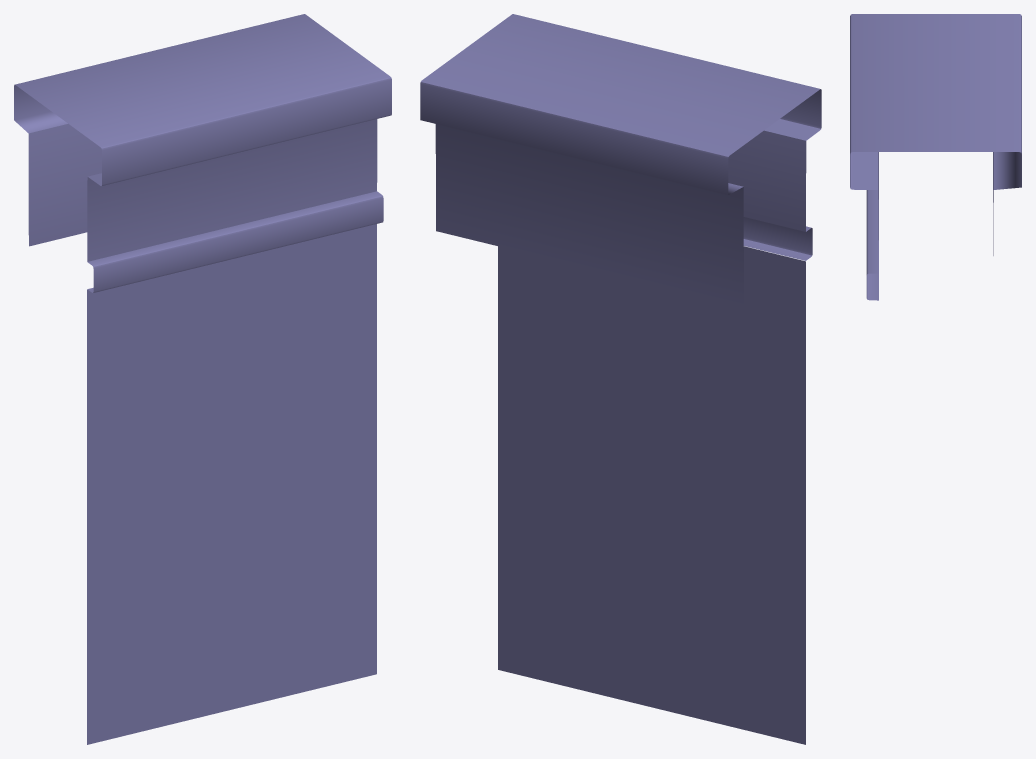
Rendered from M_A_wall_02.fbx.
3 renders of one model, left to right at view 1: azimuth 30°, elevation 25°; view 2: azimuth 150°, elevation 25°; view 3: azimuth 270°, elevation 25°, orthographic. The views are drawn at different scales.
Visible parts, largest first — view 1: M_A_wall_02; view 2: M_A_wall_02; view 3: M_A_wall_02.
Part boxes in pixels (bbox=[...]): M_A_wall_02: bbox=[14, 14, 391, 744]; M_A_wall_02: bbox=[420, 14, 821, 744]; M_A_wall_02: bbox=[850, 14, 1021, 300].
Size of the model in its own units: 200 by 400 by 105.
